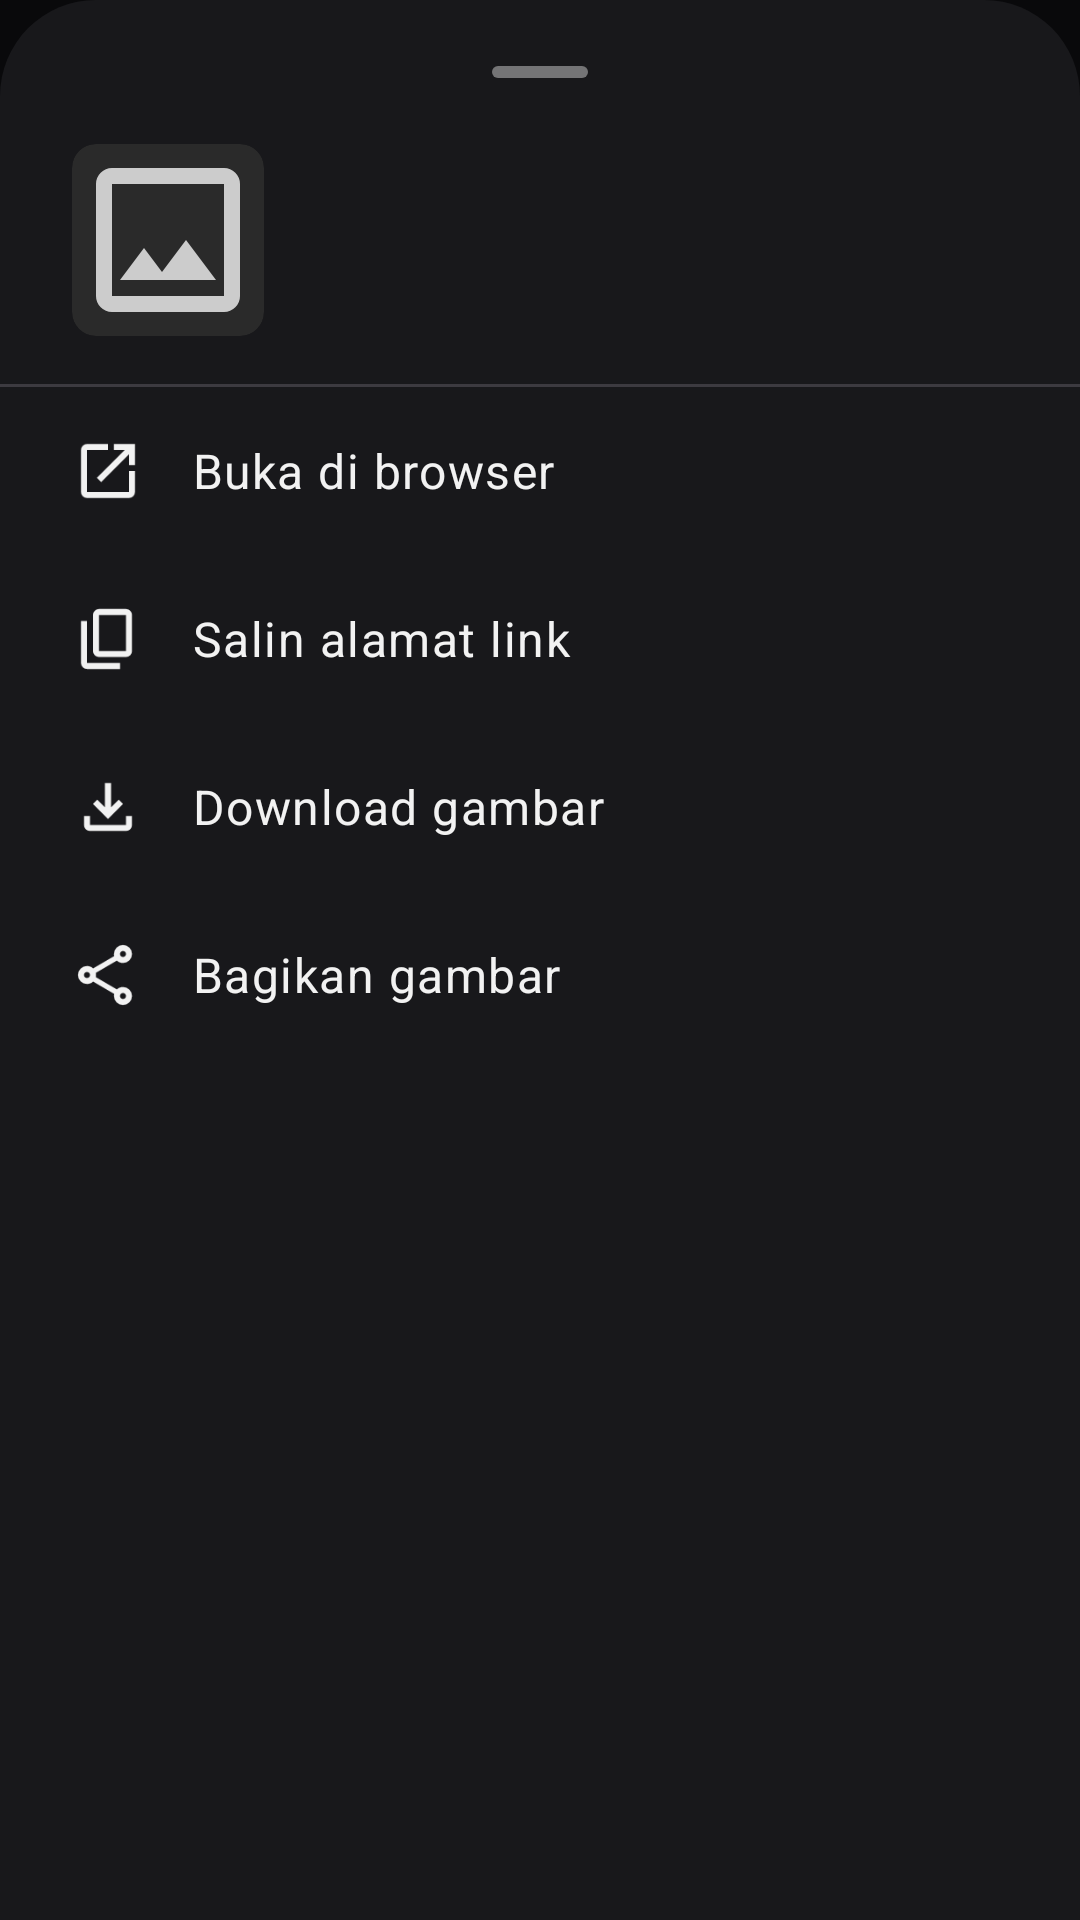

Screen size 1080px x 1920px. Icon name, then its box in pixels as (x1, y1, x2, y2):
photo: (72, 144, 264, 336)
